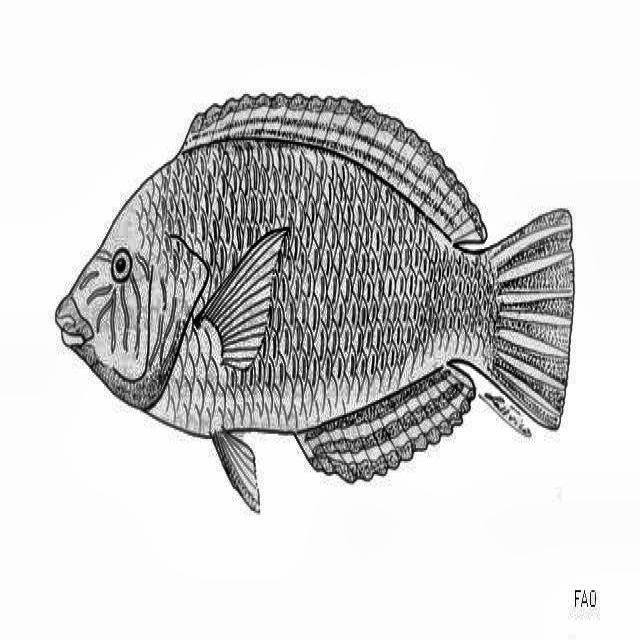fish: (55, 95, 581, 516)
